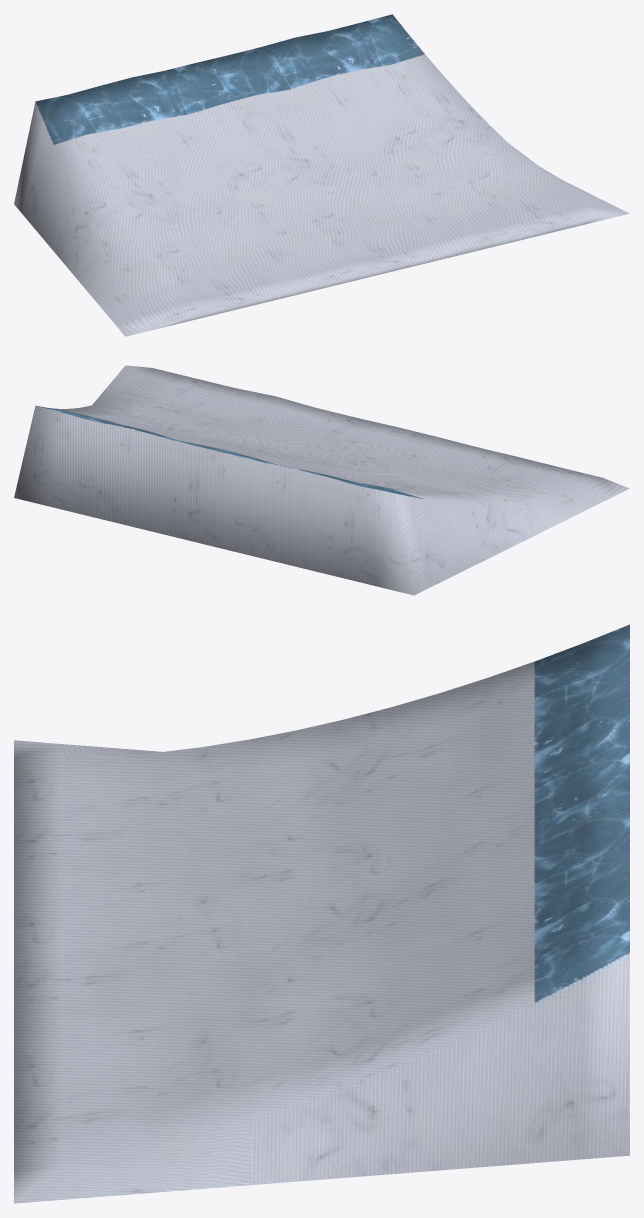
Rendered from ramp_snow.glb.
3 renders of one model, top to bottom at view 1: azimuth 30°, elevation 25°; view 2: azimuth 150°, elevation 25°; view 3: azimuth 270°, elevation 25°, orthographic. The views are drawn at different scales.
Parts seen in each view (by area): view 1: ramp_snow; view 2: ramp_snow; view 3: ramp_snow.
Part boxes in pixels (left/top/right/bottom): ramp_snow: left=14, top=14, right=629, bottom=336; ramp_snow: left=14, top=365, right=629, bottom=595; ramp_snow: left=14, top=624, right=629, bottom=1203.
Size of the model in its own units: 6.5 by 1.21 by 3.65.
Materials: 1 (1 with a texture image).
